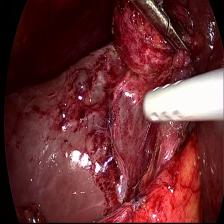Grasper: (140, 0, 204, 60)
Irrigator: (138, 72, 206, 134)
